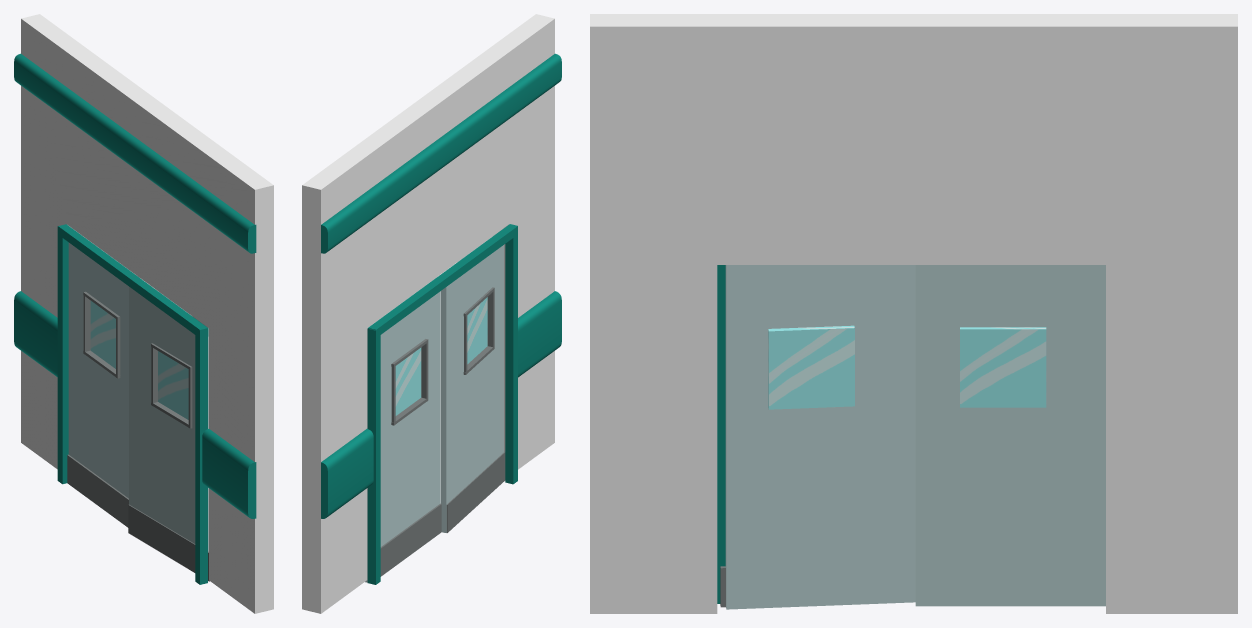
Rendered from ParedPuerta.fbx.
3 views of the same model, side by side, from view 1: azimuth 30°, elevation 25°; view 2: azimuth 150°, elevation 25°; view 3: azimuth 270°, elevation 25° (orthographic). The views are drawn at different scales.
Parts seen in each view (by area): view 1: Box007, Box025, Box012, Box009, Box008, Box015, Box014, Box016, Box018, Box017, Box026, Box020 (+2 smaller); view 2: Box007, Box025, Box012, Box009, Box008, Box014, Box015, Box016, Box017, Box018, Box020, Box026 (+2 smaller); view 3: Box007, Box012, Box025, Box026, Box020, Box015.
Boxes of the visible parts, <box> form: Box007: <box>21,14,273,613</box>; Box025: <box>129,287,208,551</box>; Box012: <box>68,225,139,498</box>; Box009: <box>14,53,256,253</box>; Box008: <box>14,291,256,518</box>; Box015: <box>195,327,207,584</box>; Box014: <box>57,226,68,484</box>; Box016: <box>58,224,208,338</box>; Box018: <box>128,504,209,581</box>; Box017: <box>67,454,128,527</box>; Box026: <box>158,351,188,419</box>; Box020: <box>90,301,115,368</box>; Box007: <box>302,14,554,613</box>; Box025: <box>440,228,503,532</box>; Box012: <box>365,277,440,582</box>; Box009: <box>321,53,561,253</box>; Box008: <box>321,291,561,518</box>; Box014: <box>367,327,380,584</box>; Box015: <box>505,227,517,484</box>; Box016: <box>368,224,517,334</box>; Box017: <box>380,503,441,576</box>; Box018: <box>446,450,505,532</box>; Box020: <box>395,347,421,415</box>; Box026: <box>467,297,487,364</box>; Box007: <box>590,14,1237,613</box>; Box012: <box>915,265,1105,606</box>; Box025: <box>725,265,915,609</box>; Box026: <box>768,325,854,409</box>; Box020: <box>960,327,1046,407</box>; Box015: <box>717,265,725,603</box>.
Bounding box in the file's own units: 10.54 × 151 × 150.
5 materials, 5 textured.
